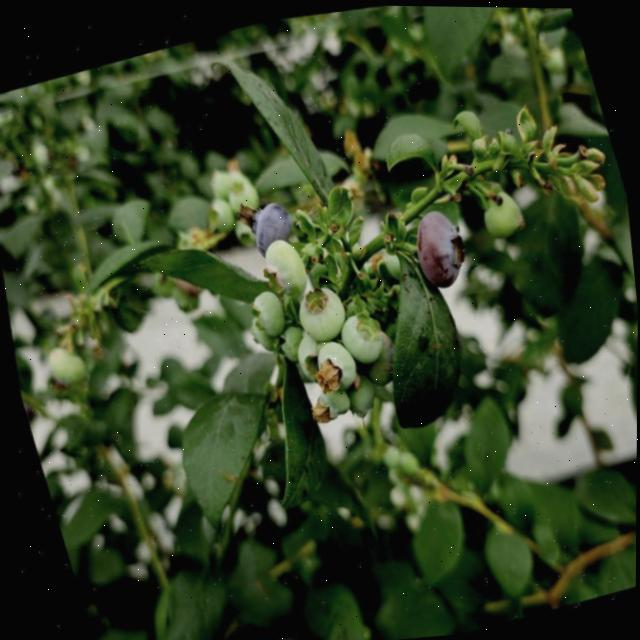RipeBlueBerry: (233, 188, 297, 254)
Semi-RipeBlueBerry: (403, 199, 474, 293)
UnripeBlueBerry: (286, 275, 349, 344), (251, 230, 311, 300), (306, 333, 359, 393)
